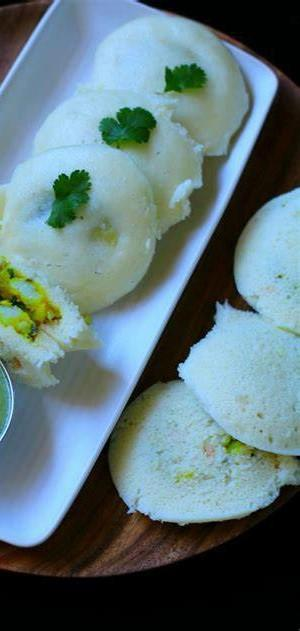Idli: (109, 373, 300, 524), (0, 148, 160, 313), (36, 89, 202, 224), (93, 7, 249, 147), (179, 301, 300, 450), (235, 189, 300, 329)
